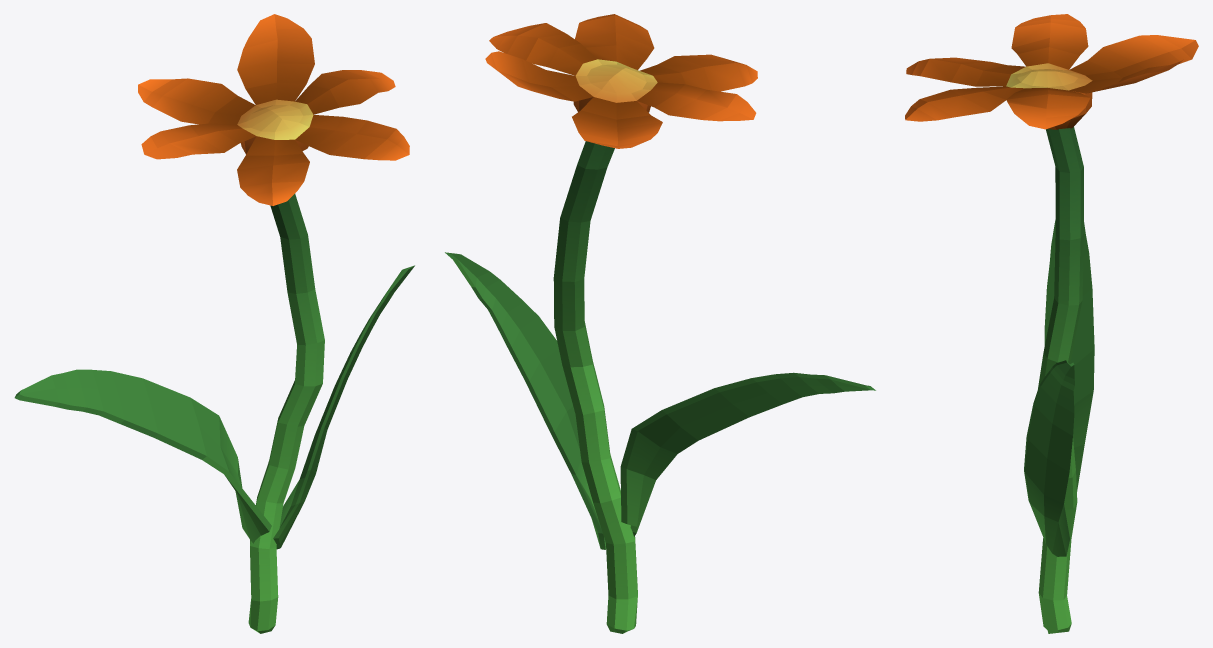
The model's file is Flower2.fbx.
The picture shows the model from 3 angles, left to right: view 1: azimuth 30°, elevation 25°; view 2: azimuth 150°, elevation 25°; view 3: azimuth 270°, elevation 25°; orthographic projection. The views are drawn at different scales.
Parts seen in each view (by area): view 1: Flower2_LOD0; view 2: Flower2_LOD0; view 3: Flower2_LOD0.
Part boxes in pixels (box(x1,y1,x2,y2)): Flower2_LOD0: box(14, 14, 414, 633); Flower2_LOD0: box(445, 14, 875, 633); Flower2_LOD0: box(905, 14, 1198, 633).
Size of what is drawn, in the model's own units: 48.37 by 63.88 by 28.03.
3 materials, 3 textured.
